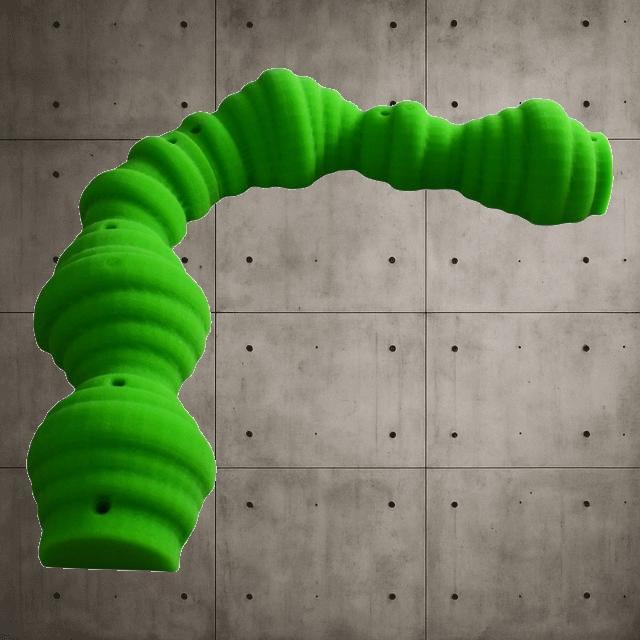Pinch: (25, 68, 612, 572)
